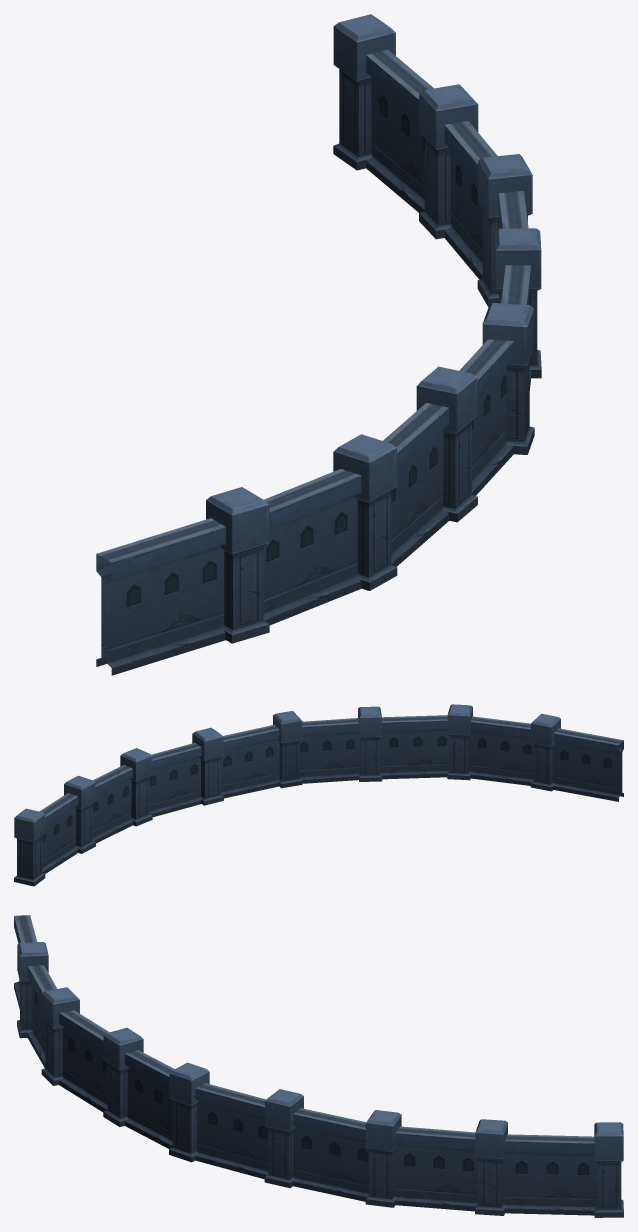
The model's file is Area_06_10.fbx.
3 renders of one model, top to bottom at view 1: azimuth 30°, elevation 25°; view 2: azimuth 150°, elevation 25°; view 3: azimuth 270°, elevation 25°, orthographic. The views are drawn at different scales.
Visible parts, largest first — view 1: Area_06_10; view 2: Area_06_10; view 3: Area_06_10.
Part boxes in pixels (x1,y1,x2,y2): Area_06_10: (96,14,541,675); Area_06_10: (14,704,623,886); Area_06_10: (14,915,623,1217).
Size of the model in its own units: 4092 by 697 by 4568.
